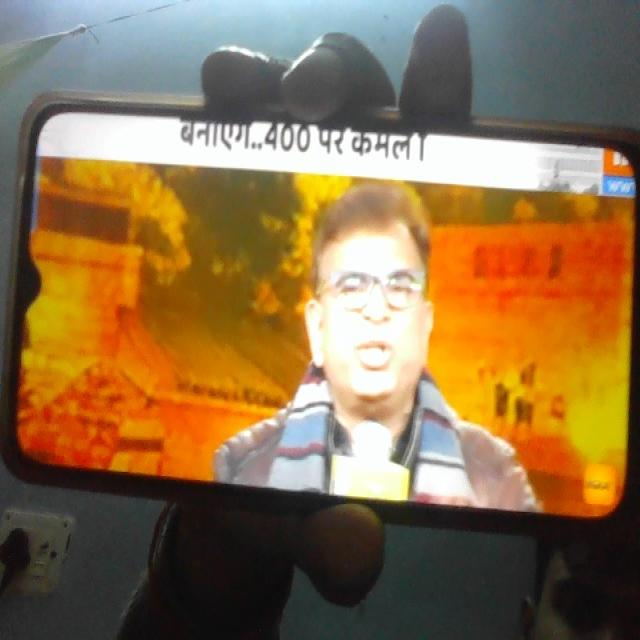fake: (296, 174, 436, 438)
